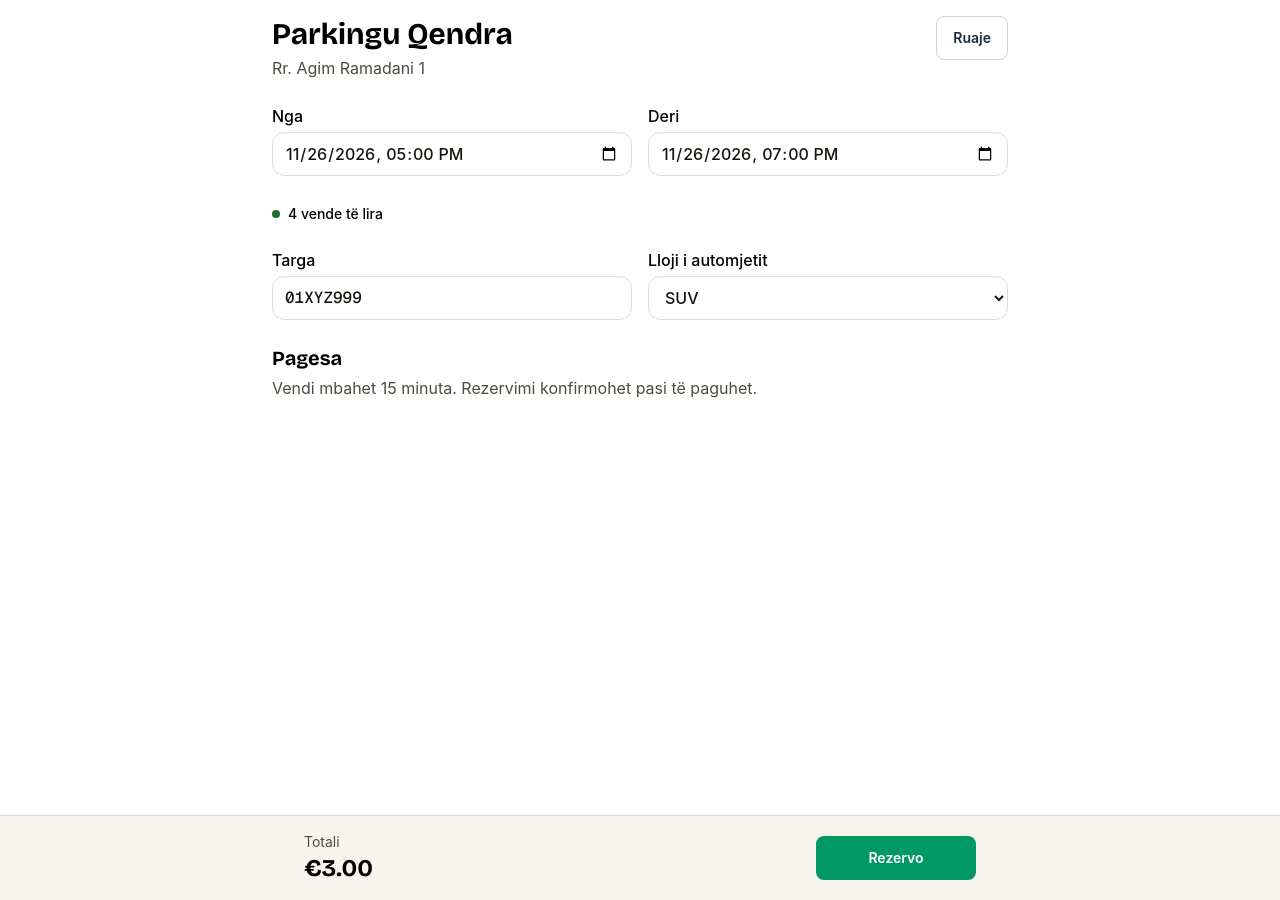
Test: checkout › explains a conflict from the API
Click the button "Rezervo" at {"x": 896, "y": 858}, box [816,836,976,880]
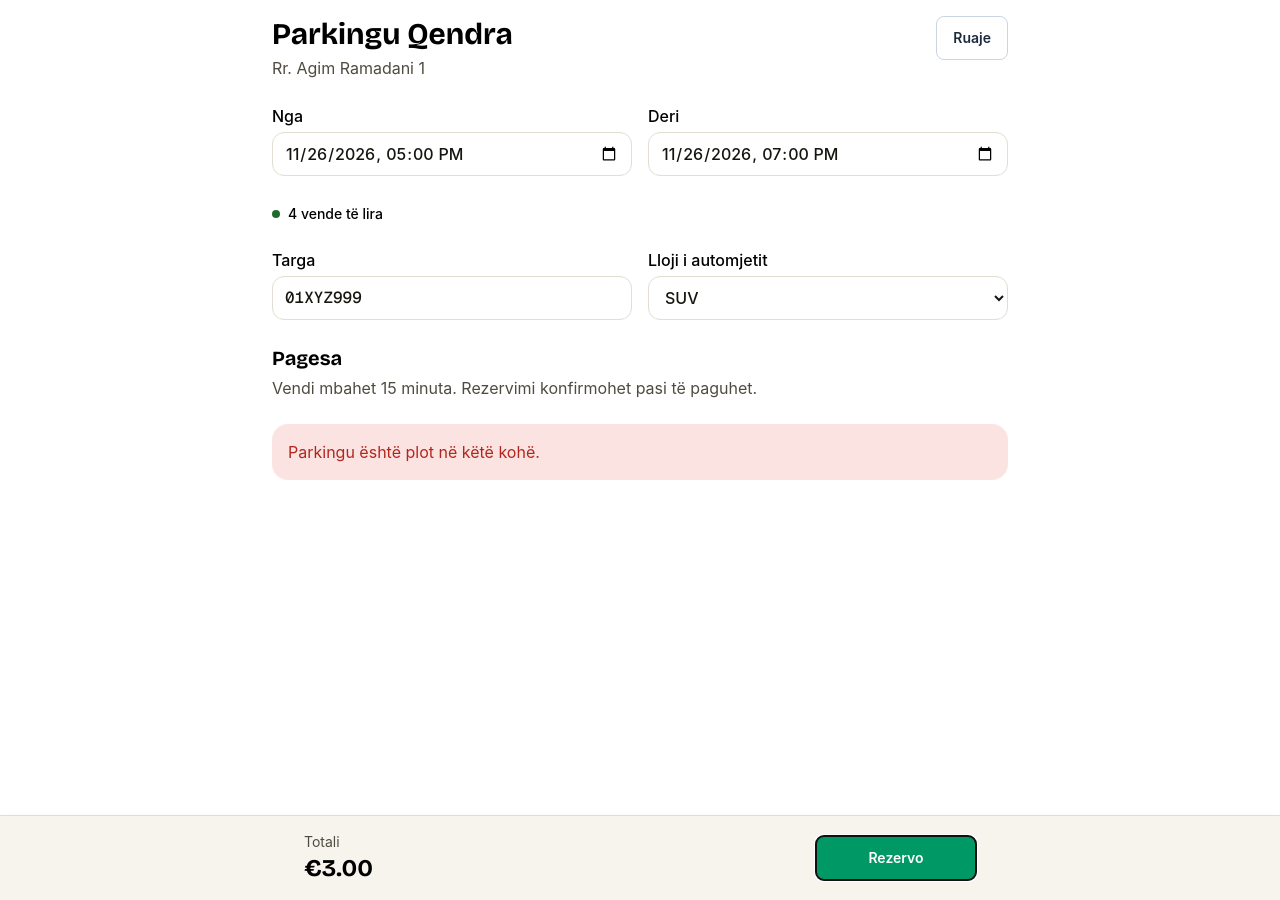
Check: the message reads "Parkingu është plot në këtë kohë.", box [288,442,540,462]
